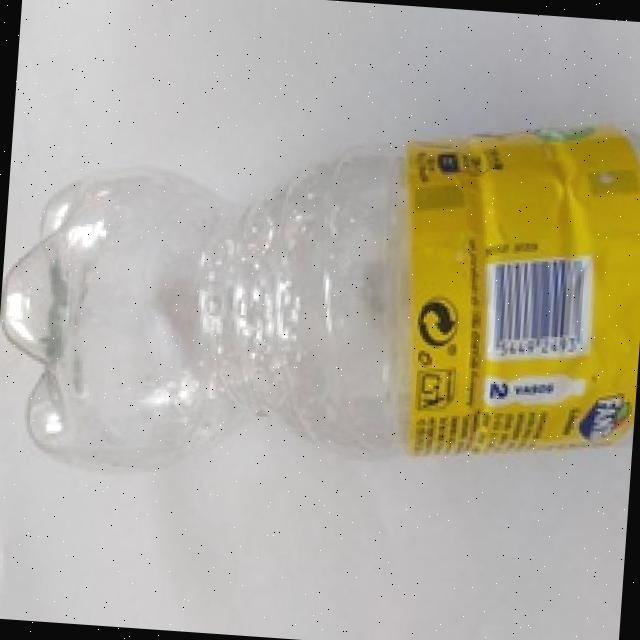bottle: (6, 76, 640, 508)
